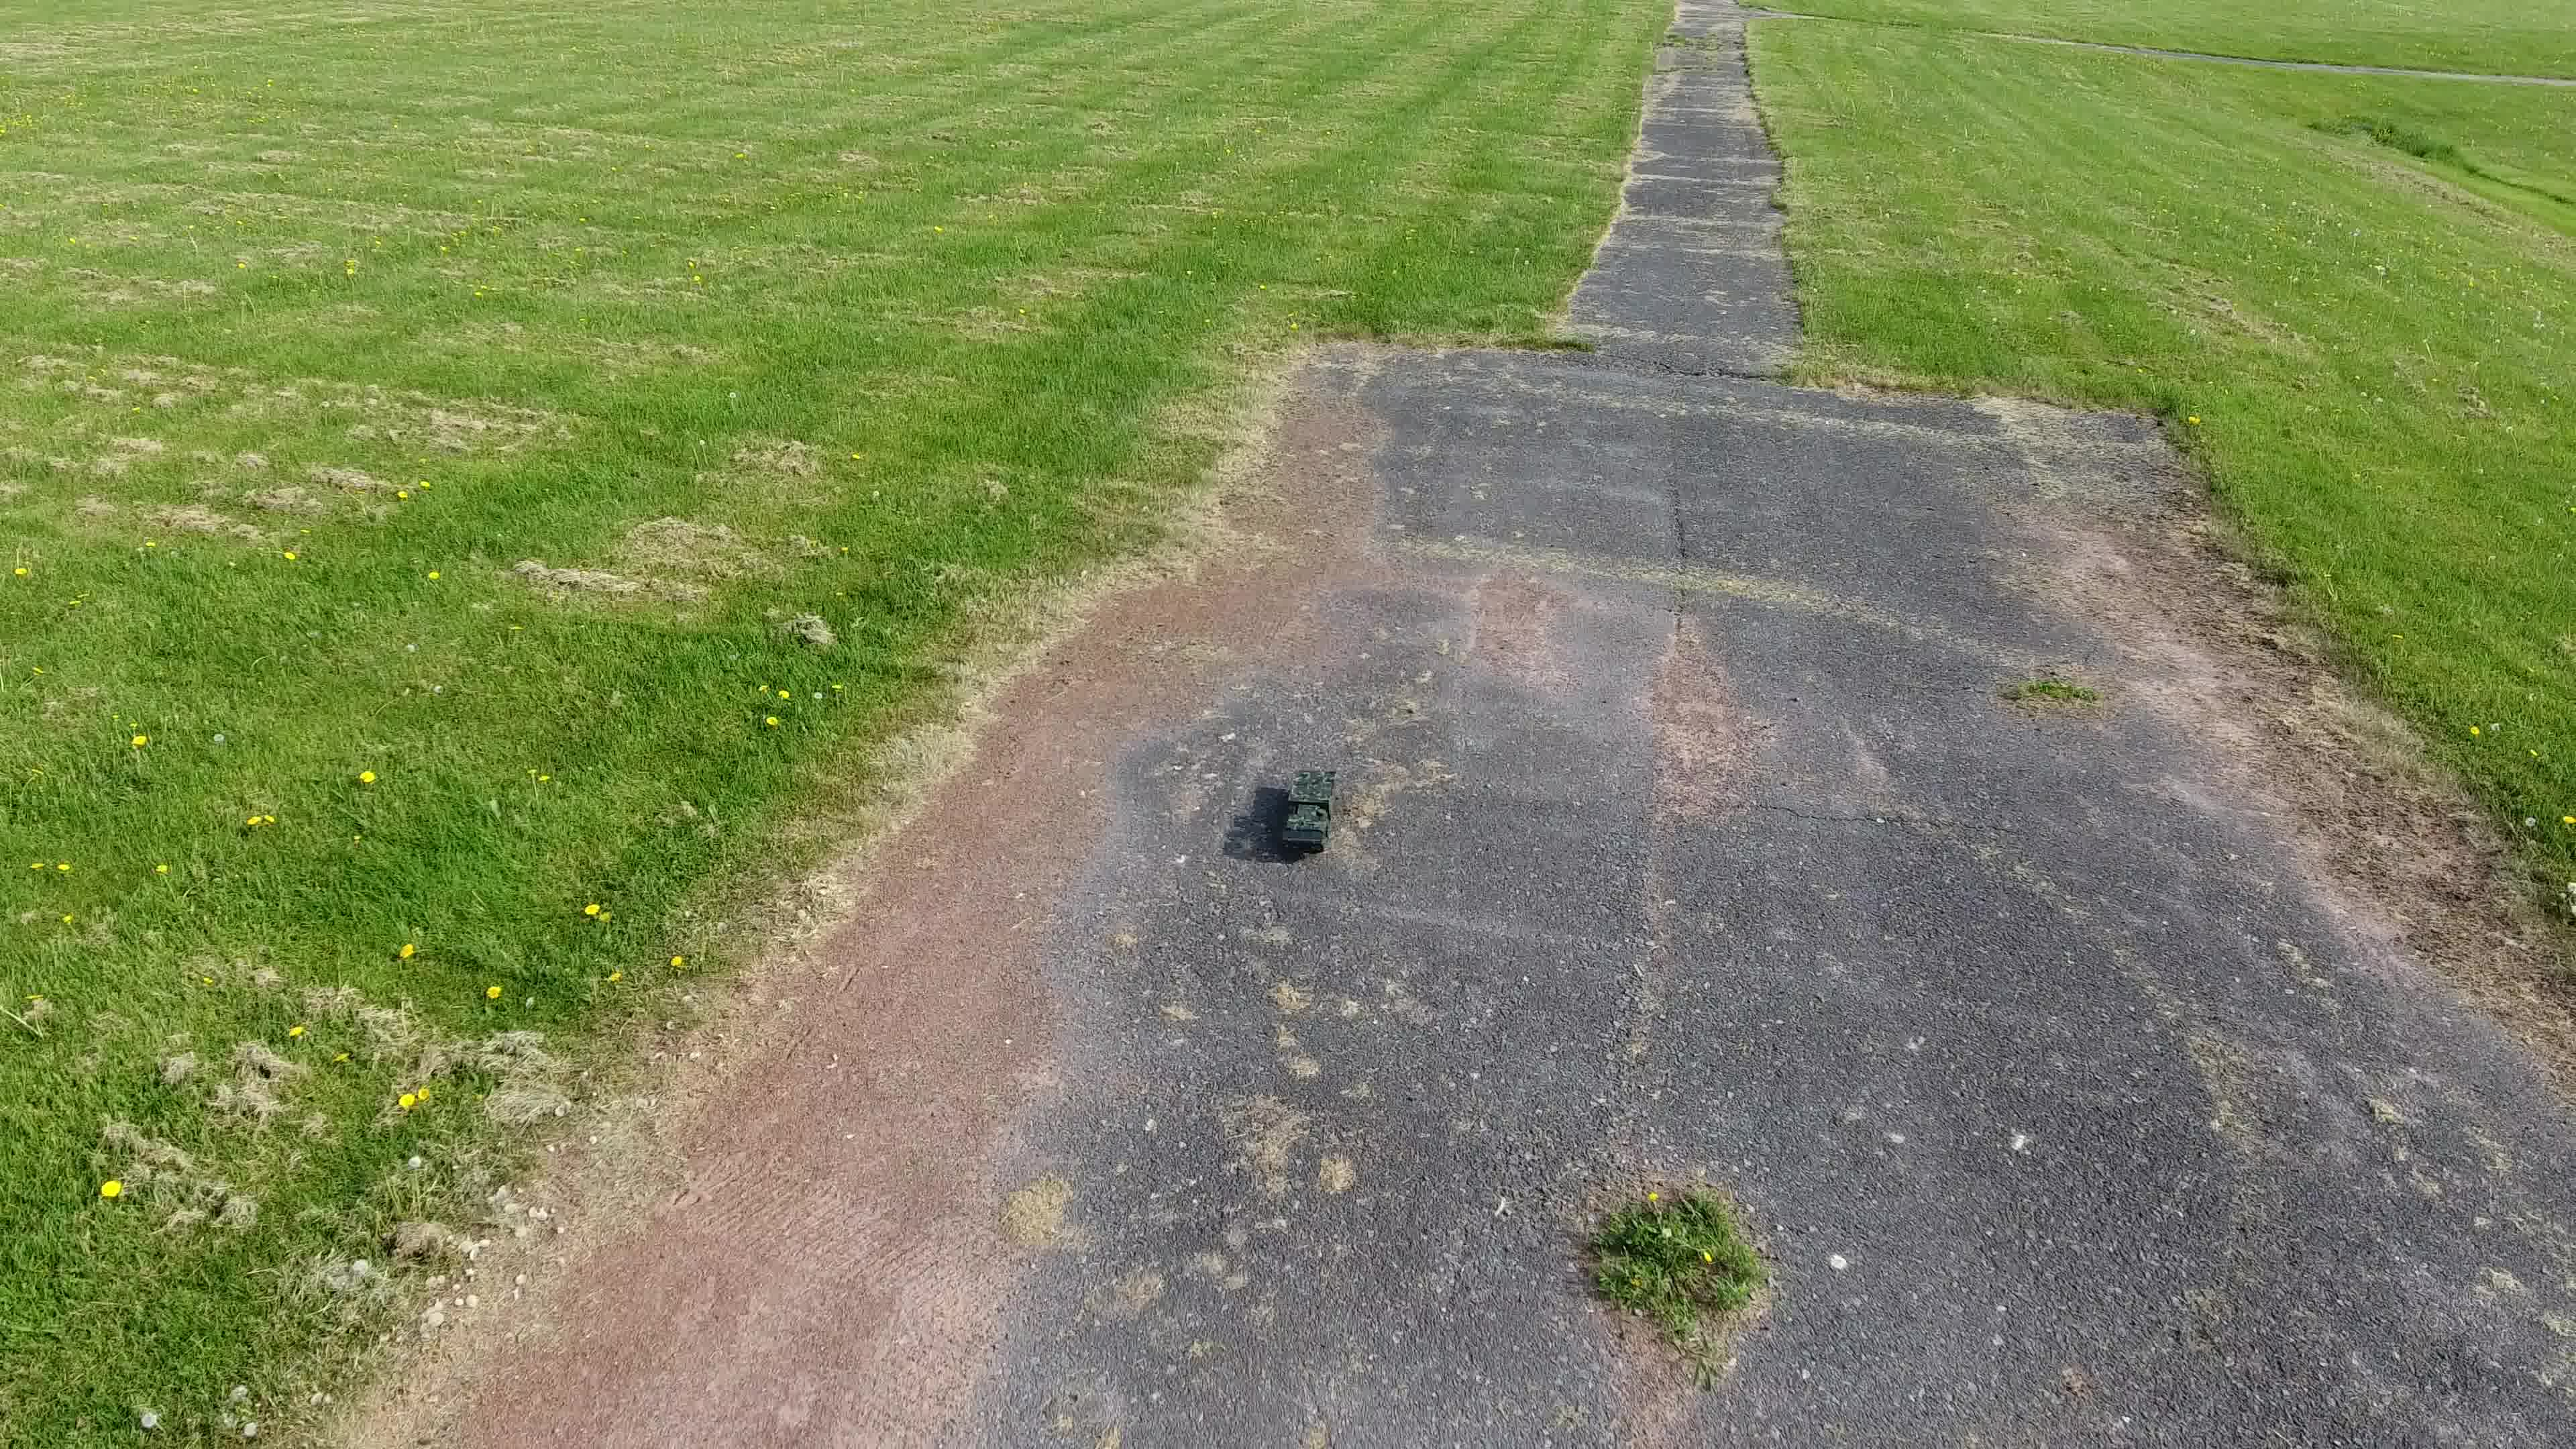transporter9: (1272, 766, 1343, 855)
